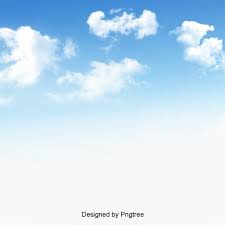sky: (1, 1, 225, 212)
